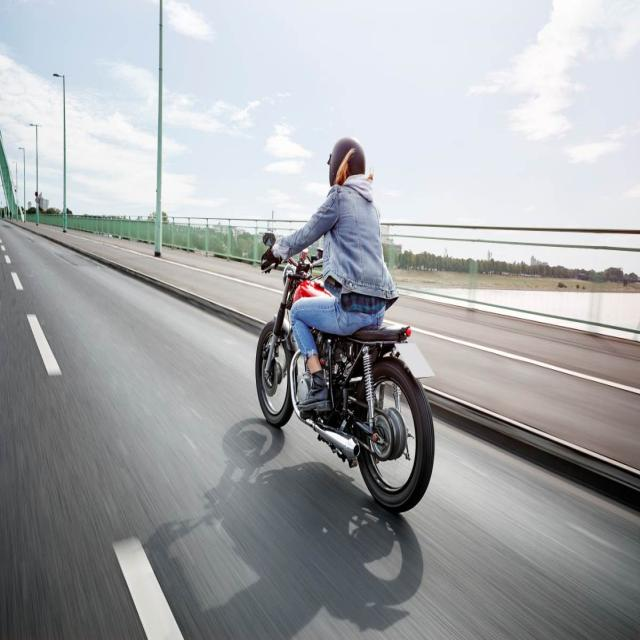motorcycle: (256, 137, 434, 513)
